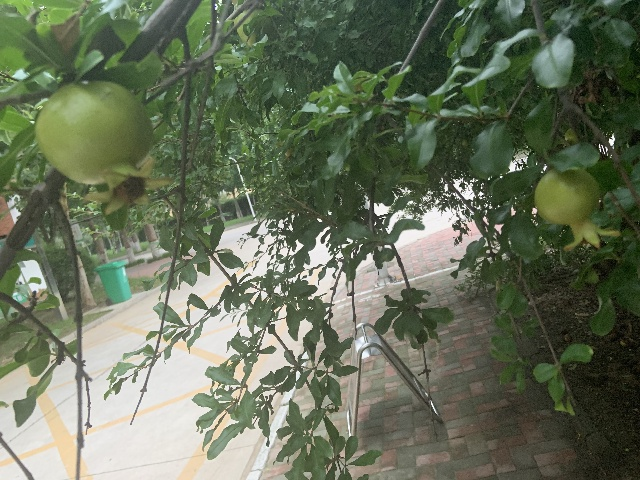mid-growth: (34, 81, 176, 217), (533, 167, 620, 252)
